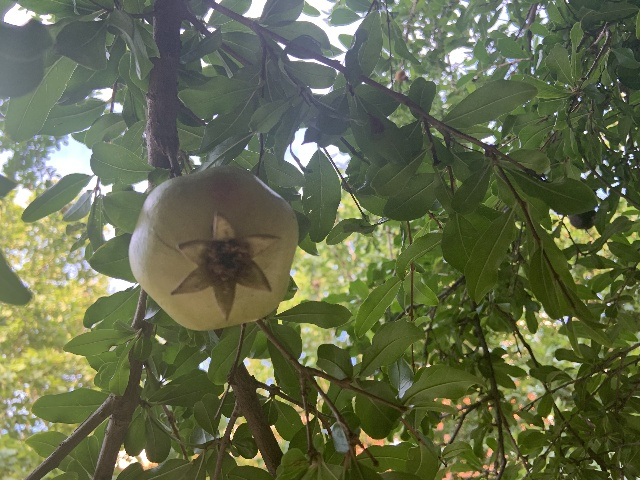mid-growth: (130, 166, 302, 329)
